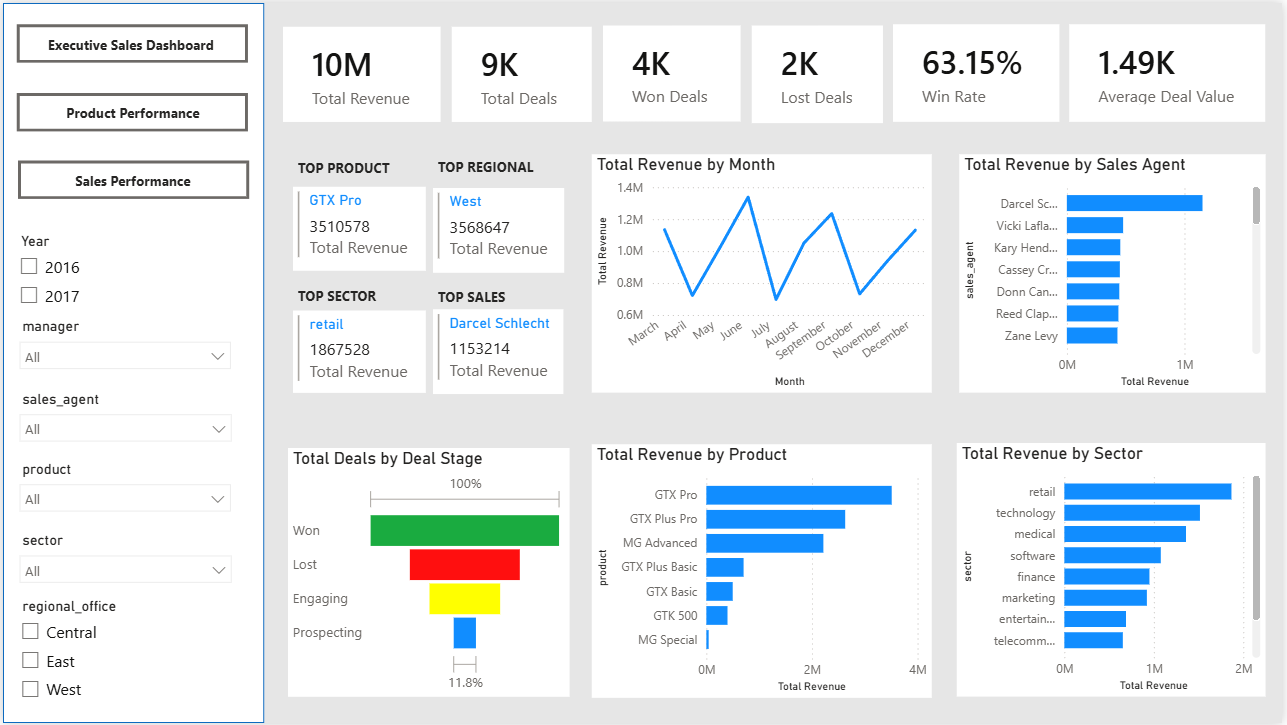

Layout of this report page (visuals, bound fields, positions):
{"tool":"powerbi","page":{"name":"Executive Sales Dashboard","canvas":[1280,720],"ordinal":0},"visuals":[{"type":"actionButton","title":"Executive Sales Dashboard","box":[13.8,21.2,231.2,38.8],"z":0,"group":"g1"},{"type":"cardVisual","fields":{"Data":["Sales Pipeline.Total Revenue"]},"box":[280,23.8,157.5,95],"z":0},{"type":"actionButton","title":"Executive Sales Dashboard","box":[13.8,90,231.2,38.8],"z":0,"group":"g2"},{"type":"actionButton","title":"Executive Sales Dashboard","box":[15,157.5,231.2,38.8],"z":0,"group":"g3"},{"type":"cardVisual","fields":{"Data":["Sales Pipeline.Total Deals"]},"box":[448.8,23.8,140,95],"z":1000},{"type":"textbox","box":[40,27.4,180,28.8],"z":1000,"group":"g1"},{"type":"textbox","box":[40,96.2,180,28.8],"z":1000,"group":"g2"},{"type":"textbox","box":[40,163.7,180,28.8],"z":1000,"group":"g3"},{"type":"cardVisual","fields":{"Data":["Sales Pipeline.Won Deals"]},"box":[600,22.5,137.5,96.2],"z":2000},{"type":"cardVisual","fields":{"Data":["Sales Pipeline.Lost Deals"]},"box":[748.8,22.5,131.2,97.5],"z":3000},{"type":"cardVisual","fields":{"Data":["Sales Pipeline.Win Rate"]},"box":[890,21.2,166.2,97.5],"z":4000},{"type":"clusteredBarChart","title":"Total Revenue by Sales Agent","fields":{"Category":["Sales Teams.sales_agent"],"Y":["Sales Pipeline.Total Revenue"]},"box":[956.2,151.2,306.2,238.8],"z":5000},{"type":"barChart","title":"Total Revenue by Sector","fields":{"Category":["Accounts.sector"],"Y":["Sales Pipeline.Total Revenue"]},"box":[953.8,440,308.8,253.8],"z":6000},{"type":"barChart","title":"Total Revenue by Product","fields":{"Category":["Products.product"],"Y":["Sales Pipeline.Total Revenue"]},"box":[588.8,441.2,340,253.8],"z":7000},{"type":"lineChart","fields":{"Y":["Sales Pipeline.Total Revenue"],"Category":["Calendar.Month"]},"box":[588.8,151.2,340,238.8],"z":8000},{"type":"cardVisual","fields":{"Data":["Sales Pipeline.Average Deal Value"]},"box":[1066.2,21.2,196.2,97.5],"z":9000},{"type":"multiRowCard","fields":{"Values":["Sales Pipeline.Total Revenue","Products.product"]},"box":[290,183.5,132.5,83.8],"z":10000},{"type":"multiRowCard","fields":{"Values":["Accounts.sector","Sales Pipeline.Total Revenue"]},"box":[290,307.5,132.5,82.5],"z":11000},{"type":"multiRowCard","fields":{"Values":["Sales Teams.sales_agent","Sales Pipeline.Total Revenue"]},"box":[430,306.2,130,85],"z":12000},{"type":"multiRowCard","fields":{"Values":["Sales Teams.regional_office","Sales Pipeline.Total Revenue"]},"box":[430,184.7,131.2,85],"z":13000},{"type":"funnel","title":"Total Deals by Deal Stage","fields":{"Category":["Sales Pipeline.deal_stage"],"Y":["Sales Pipeline.Total Deals"]},"box":[285,445,281.2,248.8],"z":14000},{"type":"shape","box":[0,0,261.2,720],"z":15000},{"type":"slicer","fields":{"Values":["Sales Teams.manager"]},"box":[6.2,310,231.2,61.2],"z":16000},{"type":"slicer","fields":{"Values":["Accounts.sector"]},"box":[6.3,523.6,232.5,66.2],"z":17000},{"type":"slicer","fields":{"Values":["Sales Teams.sales_agent"]},"box":[5.8,382.6,232.5,70],"z":18000},{"type":"slicer","fields":{"Values":["Products.product"]},"box":[5.8,452.6,231.2,62.5],"z":19000},{"type":"slicer","fields":{"Values":["Calendar.Year"]},"box":[4.8,225.6,152.9,90.5],"z":20000},{"type":"slicer","fields":{"Values":["Sales Teams.regional_office"]},"box":[6.3,589.8,233.8,125],"z":21000},{"type":"group","id":"g1","title":"Group 1","box":[13.8,21.2,231.2,38.8],"z":22000},{"type":"group","id":"g2","title":"Group 2","box":[13.8,90,231.2,38.8],"z":23000},{"type":"group","id":"g3","title":"Group 3","box":[15,157.5,231.2,38.8],"z":24000},{"type":"textbox","box":[290,151.2,112.5,28.8],"z":25000},{"type":"textbox","box":[430,150,112.5,28.8],"z":25001},{"type":"textbox","box":[290,279.2,112.5,28.8],"z":25002},{"type":"textbox","box":[430,280.5,112.5,28.8],"z":25003}]}

Visuals, with their boxes on the page's 1280x720 design canvas (x1, y1, x2, y2). These are canvas units, not pixel positions in the 1287x725 screenshot, which may show the page scaled, cropped or inside an application window:
"Executive Sales Dashboard" actionButton: <bbox>14, 21, 245, 60</bbox>
cardVisual - Sales Pipeline.Total Revenue: <bbox>280, 24, 438, 119</bbox>
"Executive Sales Dashboard" actionButton: <bbox>14, 90, 245, 129</bbox>
"Executive Sales Dashboard" actionButton: <bbox>15, 158, 246, 196</bbox>
cardVisual - Sales Pipeline.Total Deals: <bbox>449, 24, 589, 119</bbox>
textbox: <bbox>40, 27, 220, 56</bbox>
textbox: <bbox>40, 96, 220, 125</bbox>
textbox: <bbox>40, 164, 220, 192</bbox>
cardVisual - Sales Pipeline.Won Deals: <bbox>600, 22, 738, 119</bbox>
cardVisual - Sales Pipeline.Lost Deals: <bbox>749, 22, 880, 120</bbox>
cardVisual - Sales Pipeline.Win Rate: <bbox>890, 21, 1056, 119</bbox>
"Total Revenue by Sales Agent" clusteredBarChart: <bbox>956, 151, 1262, 390</bbox>
"Total Revenue by Sector" barChart: <bbox>954, 440, 1263, 694</bbox>
"Total Revenue by Product" barChart: <bbox>589, 441, 929, 695</bbox>
lineChart - Sales Pipeline.Total Revenue x Calendar.Month: <bbox>589, 151, 929, 390</bbox>
cardVisual - Sales Pipeline.Average Deal Value: <bbox>1066, 21, 1262, 119</bbox>
multiRowCard - Sales Pipeline.Total Revenue x Products.product: <bbox>290, 184, 422, 267</bbox>
multiRowCard - Accounts.sector x Sales Pipeline.Total Revenue: <bbox>290, 308, 422, 390</bbox>
multiRowCard - Sales Teams.sales_agent x Sales Pipeline.Total Revenue: <bbox>430, 306, 560, 391</bbox>
multiRowCard - Sales Teams.regional_office x Sales Pipeline.Total Revenue: <bbox>430, 185, 561, 270</bbox>
"Total Deals by Deal Stage" funnel: <bbox>285, 445, 566, 694</bbox>
shape: <bbox>0, 0, 261, 720</bbox>
slicer - Sales Teams.manager: <bbox>6, 310, 237, 371</bbox>
slicer - Accounts.sector: <bbox>6, 524, 239, 590</bbox>
slicer - Sales Teams.sales_agent: <bbox>6, 383, 238, 453</bbox>
slicer - Products.product: <bbox>6, 453, 237, 515</bbox>
slicer - Calendar.Year: <bbox>5, 226, 158, 316</bbox>
slicer - Sales Teams.regional_office: <bbox>6, 590, 240, 715</bbox>
"Group 1" group: <bbox>14, 21, 245, 60</bbox>
"Group 2" group: <bbox>14, 90, 245, 129</bbox>
"Group 3" group: <bbox>15, 158, 246, 196</bbox>
textbox: <bbox>290, 151, 402, 180</bbox>
textbox: <bbox>430, 150, 542, 179</bbox>
textbox: <bbox>290, 279, 402, 308</bbox>
textbox: <bbox>430, 280, 542, 309</bbox>
